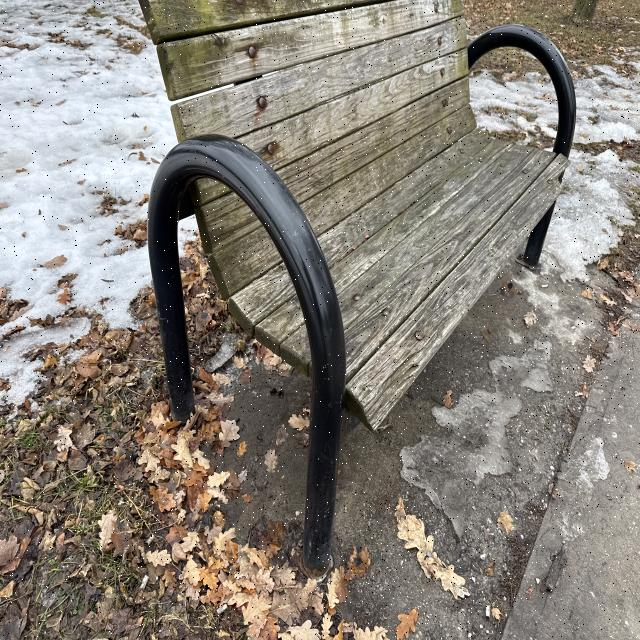Bench: (148, 14, 600, 353), (132, 0, 411, 523)
